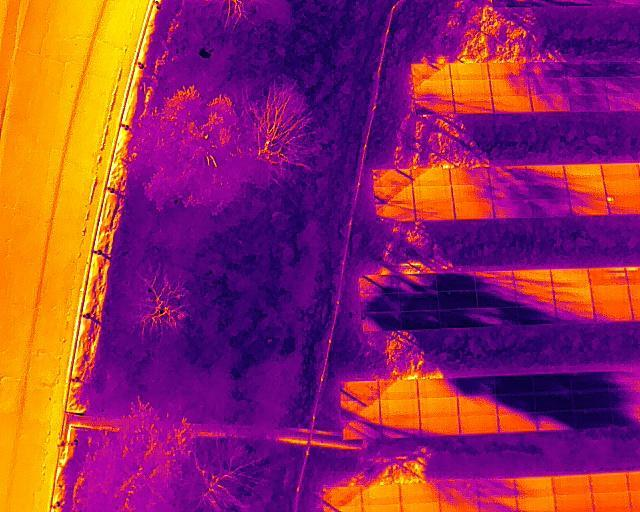Cell: (605, 196, 640, 214)
Cell-Multi: (589, 267, 628, 286)
No-Anomaly: (593, 492, 632, 512), (459, 415, 500, 434), (419, 398, 459, 417), (590, 473, 630, 492), (592, 285, 631, 304), (514, 477, 553, 496), (379, 399, 420, 416), (553, 476, 591, 494), (400, 483, 438, 501), (413, 185, 453, 202), (453, 202, 493, 219), (361, 485, 401, 502), (492, 96, 531, 113), (600, 164, 640, 180), (553, 495, 593, 511), (451, 80, 491, 96), (515, 495, 554, 511), (450, 63, 488, 79), (604, 179, 640, 195), (565, 165, 602, 180)
Shadowing: (380, 417, 421, 438), (592, 303, 632, 324), (437, 308, 477, 328), (341, 419, 381, 439), (414, 202, 455, 221), (552, 304, 593, 323), (449, 166, 489, 185), (473, 271, 513, 290), (358, 275, 398, 294), (475, 288, 515, 307), (495, 376, 533, 396), (339, 382, 379, 401), (421, 417, 461, 436), (413, 96, 455, 114), (530, 198, 572, 216), (398, 274, 437, 293), (360, 293, 399, 312), (361, 312, 400, 331), (572, 391, 611, 410), (572, 410, 611, 429), (418, 380, 459, 398), (378, 381, 419, 399), (515, 287, 553, 306), (515, 306, 553, 325), (477, 307, 515, 326), (534, 393, 572, 412), (438, 480, 476, 499), (323, 487, 361, 506), (488, 167, 528, 185), (492, 200, 532, 218), (437, 291, 477, 309), (570, 373, 610, 391), (496, 395, 536, 413), (340, 401, 380, 419), (497, 414, 537, 432), (570, 196, 607, 215), (533, 374, 570, 393), (531, 94, 570, 112), (529, 180, 568, 198), (550, 269, 589, 287), (458, 378, 497, 396), (459, 397, 498, 415), (476, 479, 515, 497), (452, 185, 493, 202), (400, 311, 438, 329), (488, 62, 526, 80), (490, 79, 528, 97), (451, 96, 491, 113), (375, 205, 415, 222), (372, 169, 411, 186), (399, 293, 438, 310), (436, 273, 474, 290), (526, 165, 566, 181), (411, 169, 451, 185), (552, 287, 592, 303), (528, 78, 568, 94), (535, 412, 572, 429), (570, 94, 609, 110), (374, 187, 413, 203), (567, 78, 606, 94), (414, 80, 453, 96), (492, 183, 530, 199), (568, 181, 606, 197), (513, 270, 551, 286), (564, 61, 601, 77), (526, 61, 565, 76), (478, 497, 516, 512), (412, 65, 450, 80)
